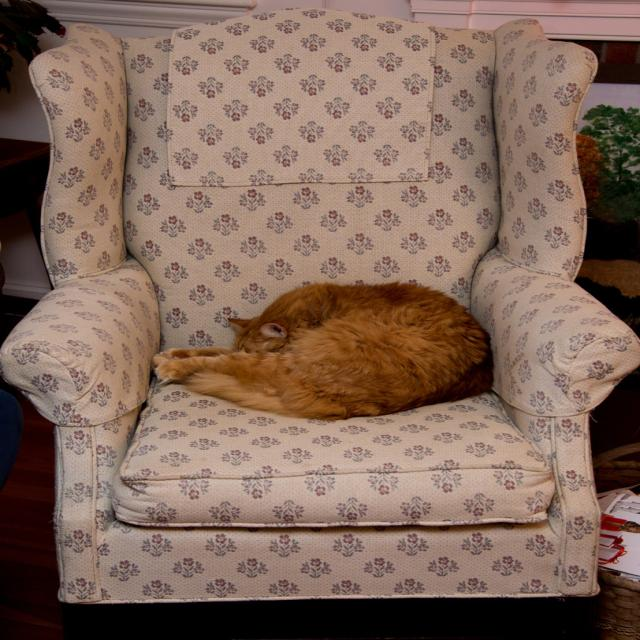Cat: (150, 280, 492, 421)
